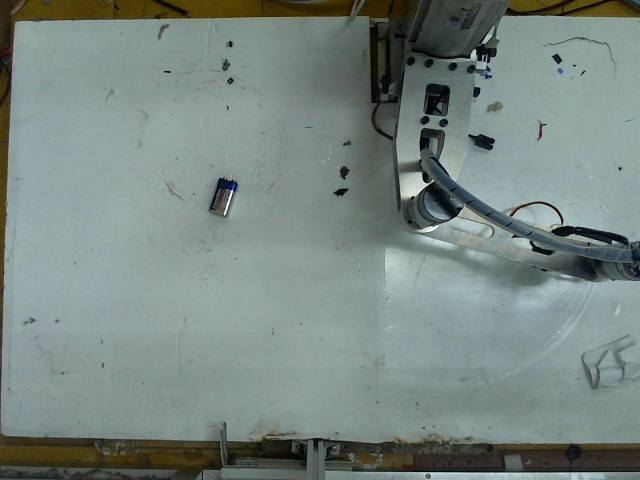battery: (206, 171, 240, 219)
